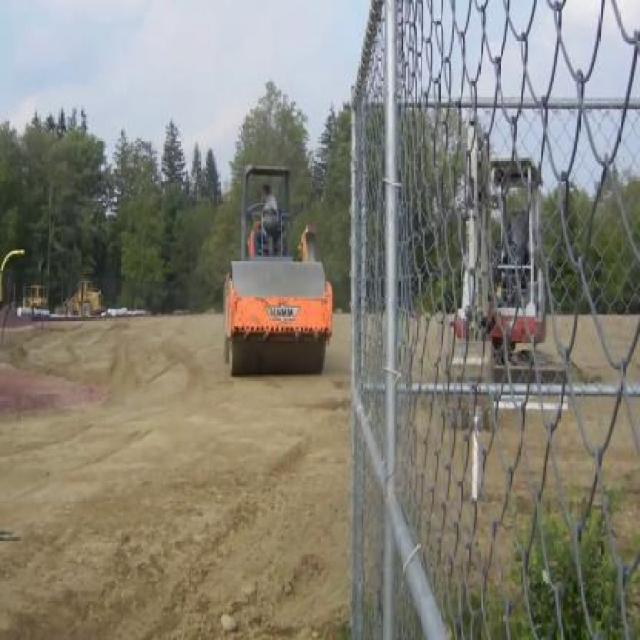Excavator: (451, 130, 569, 415)
Roller: (224, 167, 333, 379)
